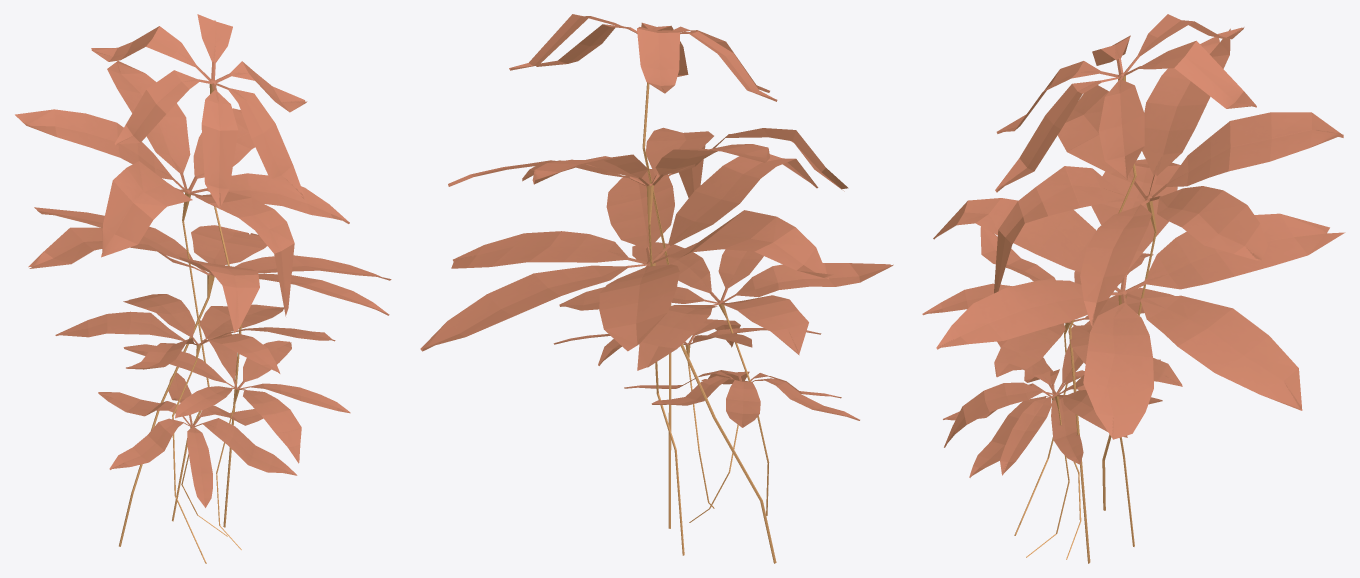
File: flower03.glb
3 views of the same model, side by side, from view 1: azimuth 30°, elevation 25°; view 2: azimuth 150°, elevation 25°; view 3: azimuth 270°, elevation 25° (orthographic). The views are drawn at different scales.
Visible parts, largest first — view 1: Flower03Plant; view 2: Flower03Plant; view 3: Flower03Plant.
Part boxes in pixels (x1,y1,x2,y2): Flower03Plant: (15,14,391,563); Flower03Plant: (420,14,893,563); Flower03Plant: (922,14,1345,563).
Size of the model in its own units: 2.81 by 3.67 by 2.63.
Materials: 1 (1 with a texture image).
